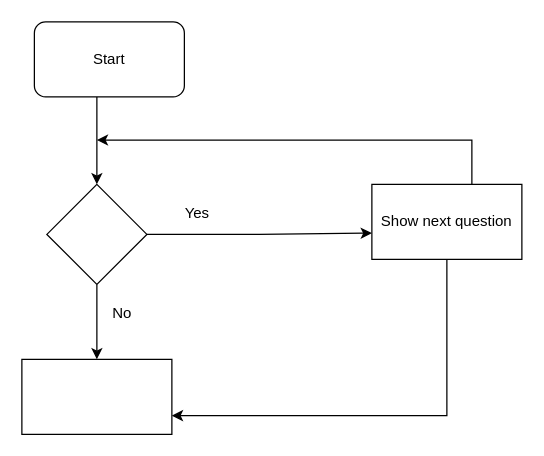
Image size: 544x456. Some labels were removed from this diagram. The centre of each missing label's shape, as x and y in pixels:
Is there another question?: (96,233)
Show results: (96,396)
